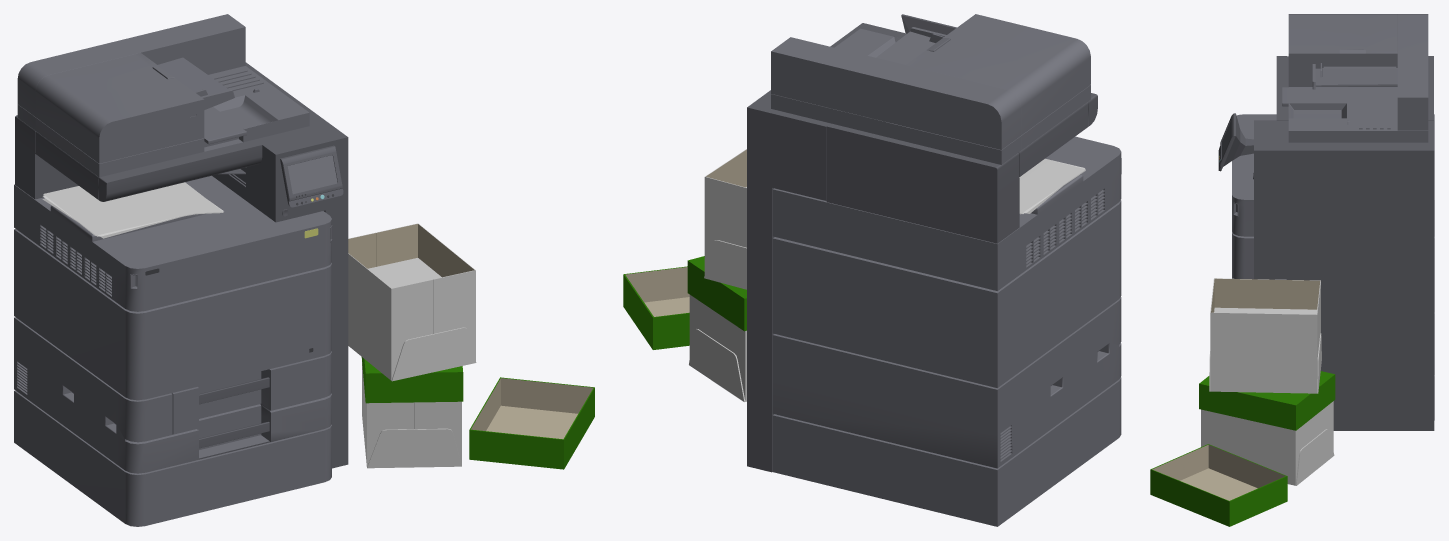
File: printer.glb
3 renders of one model, left to right at view 1: azimuth 30°, elevation 25°; view 2: azimuth 150°, elevation 25°; view 3: azimuth 270°, elevation 25°, orthographic. The views are drawn at different scales.
Visible parts, largest first — view 1: pCube1, pCube4, pCube6, pCube2, polySurface3, pCube3, pCube7, pPlane9, polySurface1; view 2: pCube1, pCube4, pCube3, pCube2, pCube6, polySurface3, pCube7, polySurface1, pPlane9; view 3: pCube2, pCube4, pCube6, polySurface3, pCube7, polySurface1, pCube1, pCube3.
Boxes of the visible parts, x1,y1,x2,y2 form: pCube1: (14, 175, 332, 526); pCube4: (17, 14, 309, 177); pCube6: (348, 223, 476, 381); pCube2: (212, 62, 348, 468); polySurface3: (469, 377, 594, 469); pCube3: (15, 115, 262, 201); pCube7: (362, 362, 461, 468); pPlane9: (42, 182, 223, 238); polySurface1: (361, 357, 463, 403); pCube1: (772, 136, 1121, 526); pCube4: (771, 14, 1090, 164); pCube3: (826, 93, 1097, 243); pCube2: (747, 14, 956, 472); pCube6: (704, 149, 746, 289); polySurface3: (623, 266, 689, 349); pCube7: (689, 295, 746, 402); polySurface1: (687, 256, 746, 331); pPlane9: (1019, 158, 1085, 214); pCube2: (1218, 113, 1434, 430); pCube4: (1282, 14, 1428, 142); pCube6: (1209, 278, 1321, 393); polySurface3: (1150, 444, 1287, 526); pCube7: (1201, 401, 1334, 485); polySurface1: (1199, 371, 1335, 430); pCube1: (1232, 114, 1434, 420); pCube3: (1276, 56, 1433, 120).
Bounding box in the file's own units: 0.0351 × 0.0277 × 0.0218.
